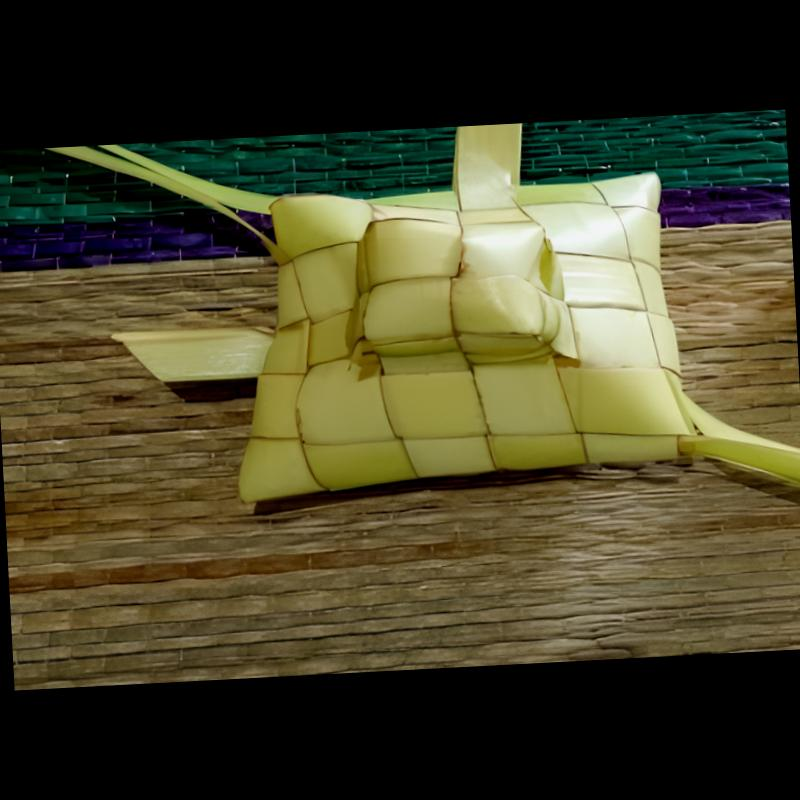Tipat Gong: (49, 123, 800, 500)
